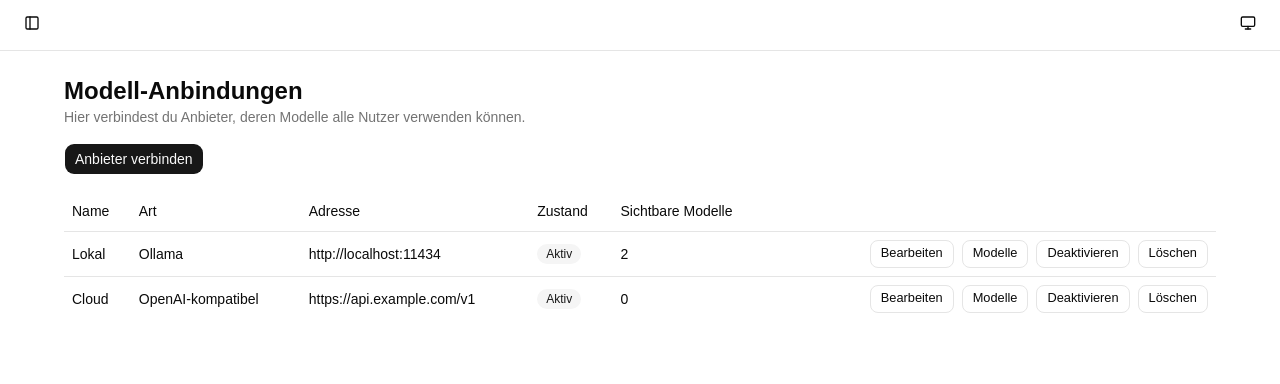
Test case: AdminConnectionsPage: enable and disable › turns a 404 into a clear sentence and keeps the list
Expected: the heading "Modell-Anbindungen" is shown, [64,77,303,104]
Click the button with aria-label "Lokal deaktivieren".
click(1083, 254)  # box [1036,240,1130,268]
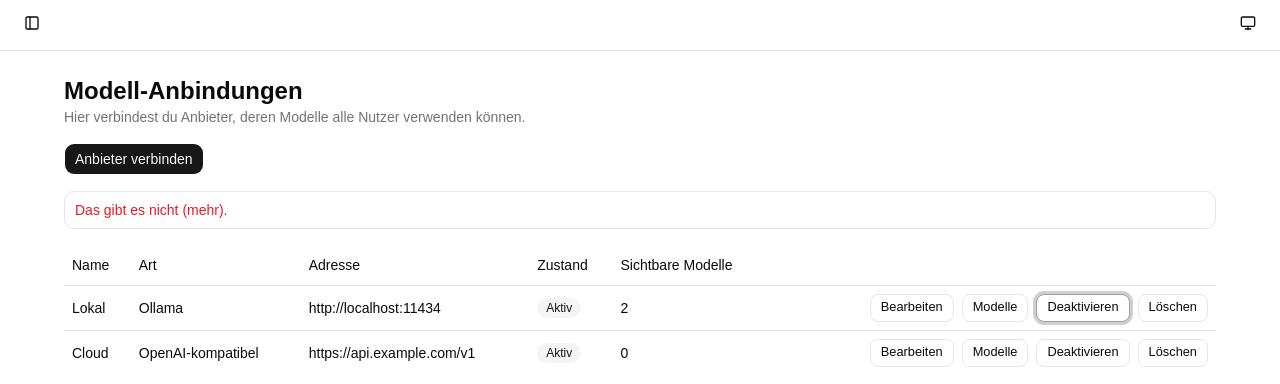
Expected: the row "Lokal" is shown, [64,285,1216,330]
Expected: the message reads "Das gibt es nicht (mehr).", [75,202,228,218]
